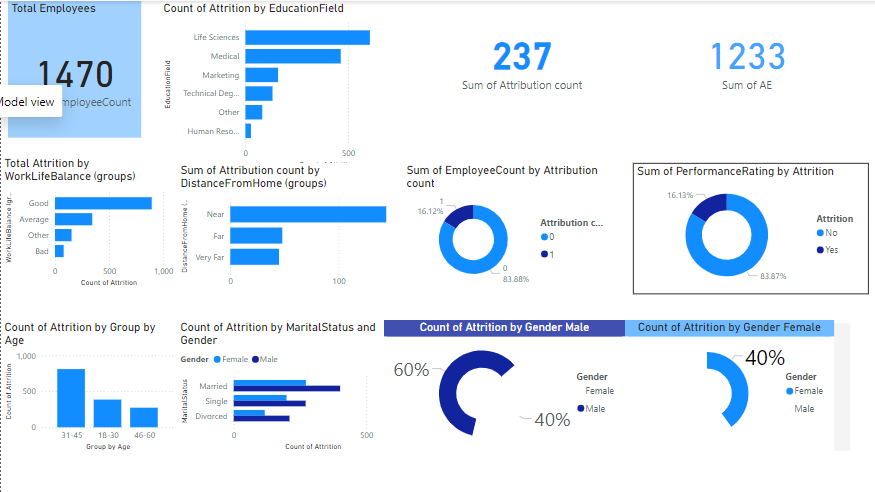

The dashboard page shown, as its layout file describes it:
{"tool":"powerbi","page":{"name":"Page 1","canvas":[1280,720],"ordinal":1},"visuals":[{"type":"card","title":"Total Employees","fields":{"Values":["Sum(HR-Employee-Attrition (2).EmployeeCount)"]},"box":[10.2,0,194.6,200.5],"z":0},{"type":"clusteredBarChart","fields":{"Category":["HR-Employee-Attrition (2).EducationField"],"Y":["CountNonNull(HR-Employee-Attrition (2).Attrition)"]},"box":[232.7,0,380.5,250.2],"z":1000},{"type":"donutChart","fields":{"Category":["HR-Employee-Attrition (2).Attrition"],"Y":["Sum(HR-Employee-Attrition (2).PerformanceRating)"]},"box":[924.9,237.1,345.4,191.7],"z":2000},{"type":"card","fields":{"Values":["Sum(HR-Employee-Attrition (2).Attribution count)"]},"box":[613.2,0,298.5,168.3],"z":3000},{"type":"card","fields":{"Values":["Sum(HR-Employee-Attrition (2).AE)"]},"box":[913.2,0,357.1,168.3],"z":4000},{"type":"donutChart","fields":{"Category":["HR-Employee-Attrition (2).Attribution count","HR-Employee-Attrition (2).AE"],"Y":["Sum(HR-Employee-Attrition (2).EmployeeCount)"]},"box":[588.3,237.1,305.9,185.9],"z":5000},{"type":"clusteredBarChart","title":"Total Attrition by WorkLifeBalance (groups)","fields":{"Y":["CountNonNull(HR-Employee-Attrition (2).Attrition)"],"Category":["HR-Employee-Attrition (2).WorkLifeBalance (groups)"]},"box":[0,226.8,257.6,196.1],"z":6000},{"type":"clusteredBarChart","fields":{"Category":["HR-Employee-Attrition (2).DistanceFromHome (groups)"],"Y":["Sum(HR-Employee-Attrition (2).Attribution count)"]},"box":[257.6,237.1,330.7,191.7],"z":7000},{"type":"columnChart","fields":{"Category":["HR-Employee-Attrition (2).Group by Age"],"Y":["CountNonNull(HR-Employee-Attrition (2).Attrition)"]},"box":[0,466.5,258,196],"z":8000},{"type":"clusteredBarChart","fields":{"Series":["HR-Employee-Attrition (2).Gender"],"Y":["CountNonNull(HR-Employee-Attrition (2).Attrition)"],"Category":["HR-Employee-Attrition (2).MaritalStatus"]},"box":[258,467,331,196],"z":9000},{"type":"donutChart","title":"Count of Attrition by Gender Male","fields":{"Y":["CountNonNull(HR-Employee-Attrition (2).Attrition)"],"Series":["HR-Employee-Attrition (2).Gender"]},"box":[589,467,305,196],"z":10000},{"type":"qnaVisual","box":[924.9,467,323.4,196],"z":11000},{"type":"qnaVisual","box":[924.9,467,323.4,196],"z":12000},{"type":"donutChart","title":"Count of Attrition by Gender Female","fields":{"Y":["CountNonNull(HR-Employee-Attrition (2).Attrition)"],"Series":["HR-Employee-Attrition (2).Gender"]},"box":[913.2,466.8,305.9,196.1],"z":13000}]}

Visuals, with their boxes on the page's 1280x720 design canvas (x1, y1, x2, y2). These are canvas units, not pixel positions in the 875x492 screenshot, which may show the page scaled, cropped or inside an application window:
"Total Employees" card: locate(10, 0, 205, 200)
clusteredBarChart - HR-Employee-Attrition (2).EducationField x CountNonNull(HR-Employee-Attrition (2).Attrition): locate(233, 0, 613, 250)
donutChart - HR-Employee-Attrition (2).Attrition x Sum(HR-Employee-Attrition (2).PerformanceRating): locate(925, 237, 1270, 429)
card - Sum(HR-Employee-Attrition (2).Attribution count): locate(613, 0, 912, 168)
card - Sum(HR-Employee-Attrition (2).AE): locate(913, 0, 1270, 168)
donutChart - HR-Employee-Attrition (2).Attribution count x HR-Employee-Attrition (2).AE: locate(588, 237, 894, 423)
"Total Attrition by WorkLifeBalance (groups)" clusteredBarChart: locate(0, 227, 258, 423)
clusteredBarChart - HR-Employee-Attrition (2).DistanceFromHome (groups) x Sum(HR-Employee-Attrition (2).Attribution count): locate(258, 237, 588, 429)
columnChart - HR-Employee-Attrition (2).Group by Age x CountNonNull(HR-Employee-Attrition (2).Attrition): locate(0, 466, 258, 662)
clusteredBarChart - HR-Employee-Attrition (2).Gender x CountNonNull(HR-Employee-Attrition (2).Attrition): locate(258, 467, 589, 663)
"Count of Attrition by Gender Male" donutChart: locate(589, 467, 894, 663)
qnaVisual: locate(925, 467, 1248, 663)
qnaVisual: locate(925, 467, 1248, 663)
"Count of Attrition by Gender Female" donutChart: locate(913, 467, 1219, 663)
